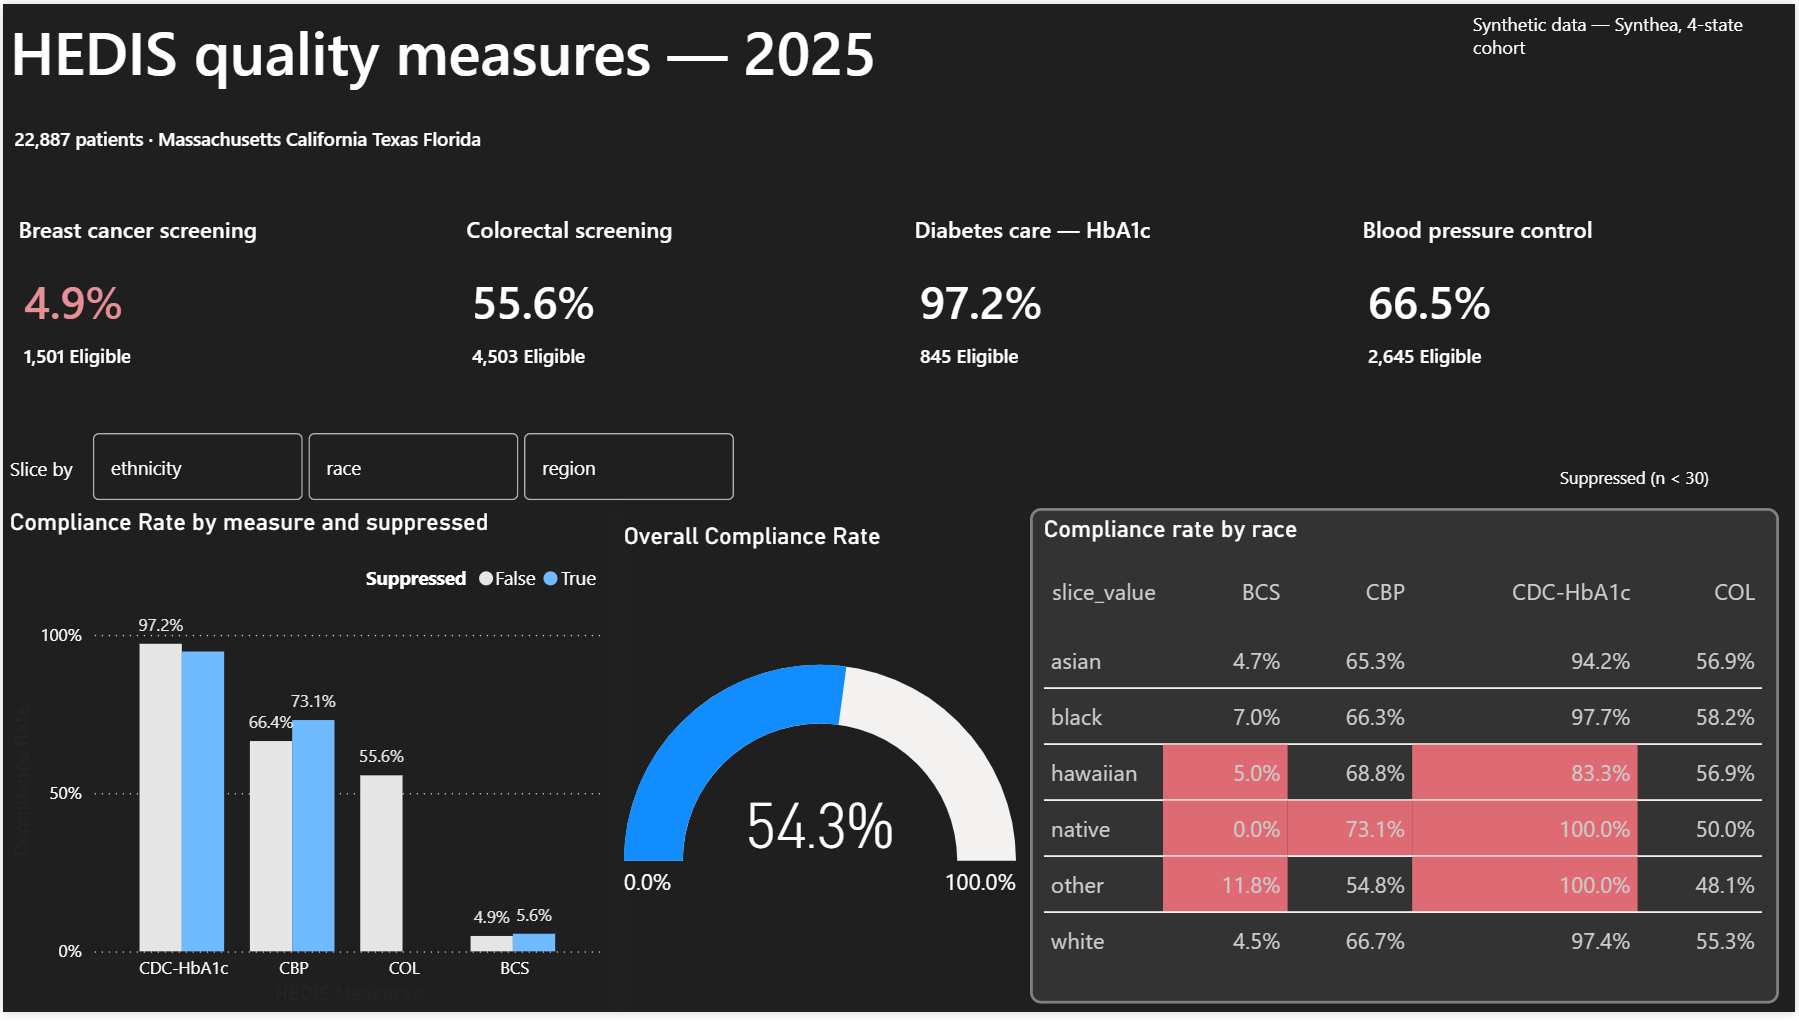

This screenshot's page, from the dashboard's own definition file:
{"tool":"powerbi","page":{"name":"Dashboard","canvas":[1280,720],"ordinal":0},"visuals":[{"type":"cardVisual","fields":{"Data":["Sum(measure_summary_overall.compliance_rate)","Sum(measure_summary_overall.eligible_count)"],"Rows":["measure_summary_overall.measure"]},"box":[0,114.3,320,187.1],"z":0,"group":"g2"},{"type":"clusteredColumnChart","fields":{"Category":["`hedis` `gold` `measure_summary`.measure"],"Y":["`hedis` `gold` `measure_summary`.Compliance Rate"],"Series":["`hedis` `gold` `measure_summary`.suppressed"]},"box":[0,360,433.6,360],"z":0},{"type":"cardVisual","fields":{"Data":["Sum(measure_summary_overall.compliance_rate)","Sum(measure_summary_overall.eligible_count)"],"Rows":["measure_summary_overall.measure"]},"box":[320,114.3,320,187.1],"z":1000,"group":"g2"},{"type":"advancedSlicerVisual","title":"Slice by","fields":{"Values":["`hedis` `gold` `measure_summary`.slice_type"]},"box":[62.1,301.4,535.7,58.6],"z":1000},{"type":"cardVisual","fields":{"Data":["Sum(measure_summary_overall.compliance_rate)","Sum(measure_summary_overall.eligible_count)"],"Rows":["measure_summary_overall.measure"]},"box":[640,114.3,320,187.1],"z":2000,"group":"g2"},{"type":"gauge","title":"Overall Compliance Rate","fields":{"Y":["`hedis` `gold` `measure_summary`.Compliance Rate"]},"box":[433.6,360,300,360],"z":2000},{"type":"cardVisual","fields":{"Data":["Sum(measure_summary_overall.compliance_rate)","Sum(measure_summary_overall.eligible_count)"],"Rows":["measure_summary_overall.measure"]},"box":[960,114.3,320,187.1],"z":3000,"group":"g2"},{"type":"pivotTable","title":"Compliance rate by race","fields":{"Rows":["`hedis` `gold` `measure_summary`.slice_value"],"Columns":["`hedis` `gold` `measure_summary`.measure"],"Values":["`hedis` `gold` `measure_summary`.Compliance Rate"]},"box":[733.6,360,535,354.3],"z":3000},{"type":"textbox","box":[0,0,640,75.7],"z":4000},{"type":"textbox","box":[1045,0,235,52.1],"z":5000},{"type":"cardVisual","fields":{"Data":["metrics.Overall"]},"box":[0,75.7,470.7,38.6],"z":6000},{"type":"group","id":"g1","title":"Group 1","box":[0,114.3,1280,187.1],"z":7000},{"type":"textbox","box":[0,301.4,77.9,44.3],"z":8000},{"type":"group","id":"g2","title":"Group 2","box":[0,114.3,1280,187.1],"z":8001,"group":"g1"},{"type":"textbox","box":[1107.1,323.6,172.9,36.4],"z":9000}]}

Visuals, with their boxes in screenshot pixels (x1, y1, x2, y2), scaled from the page's 1280x720 canvas onto the 1799x1020 screenshot:
cardVisual - Sum(measure_summary_overall.compliance_rate) x Sum(measure_summary_overall.eligible_count): select_region(0, 162, 450, 427)
clusteredColumnChart - `hedis` `gold` `measure_summary`.measure x `hedis` `gold` `measure_summary`.Compliance Rate: select_region(0, 510, 609, 1019)
cardVisual - Sum(measure_summary_overall.compliance_rate) x Sum(measure_summary_overall.eligible_count): select_region(450, 162, 900, 427)
"Slice by" advancedSlicerVisual: select_region(87, 427, 840, 510)
cardVisual - Sum(measure_summary_overall.compliance_rate) x Sum(measure_summary_overall.eligible_count): select_region(900, 162, 1349, 427)
"Overall Compliance Rate" gauge: select_region(609, 510, 1031, 1019)
cardVisual - Sum(measure_summary_overall.compliance_rate) x Sum(measure_summary_overall.eligible_count): select_region(1349, 162, 1798, 427)
"Compliance rate by race" pivotTable: select_region(1031, 510, 1783, 1012)
textbox: select_region(0, 0, 900, 107)
textbox: select_region(1469, 0, 1798, 74)
cardVisual - metrics.Overall: select_region(0, 107, 662, 162)
"Group 1" group: select_region(0, 162, 1798, 427)
textbox: select_region(0, 427, 109, 490)
"Group 2" group: select_region(0, 162, 1798, 427)
textbox: select_region(1556, 458, 1798, 510)
